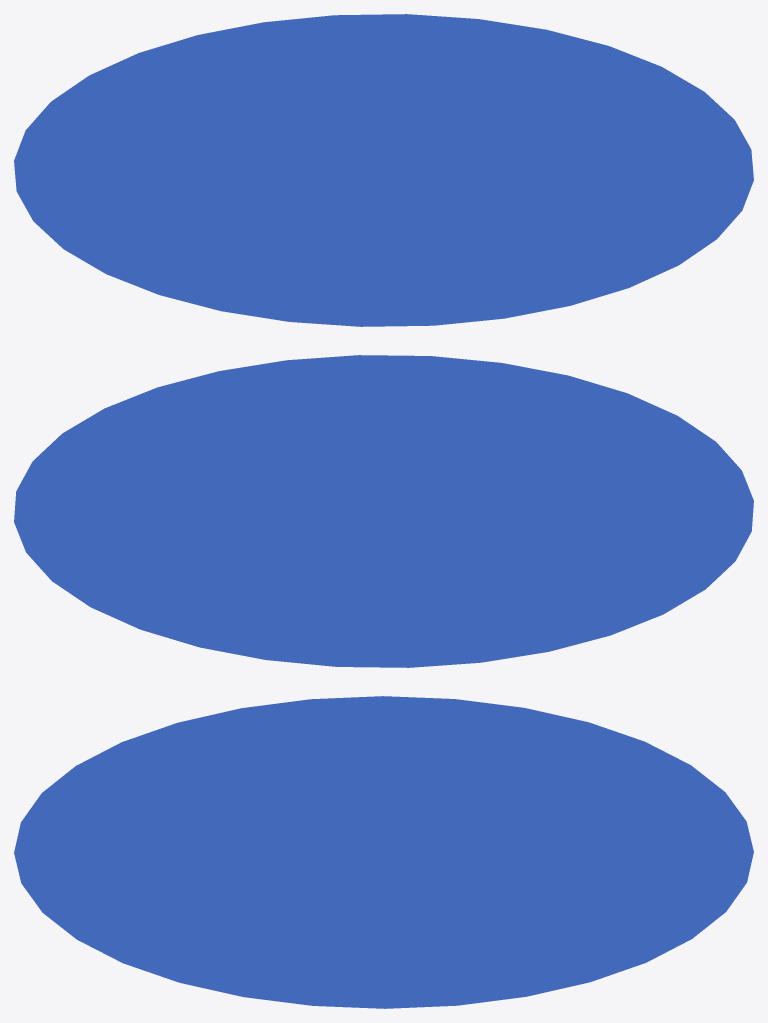
Rendered from Floor_2.fbx.
3 views of the same model, one above another, from view 1: azimuth 30°, elevation 25°; view 2: azimuth 150°, elevation 25°; view 3: azimuth 270°, elevation 25° (orthographic).
Parts seen in each view (by area): view 1: Floor_0_Mesh.001; view 2: Floor_0_Mesh.001; view 3: Floor_0_Mesh.001.
Boxes of the visible parts, box(x1,y1,x2,y2) form: Floor_0_Mesh.001: box(14, 14, 753, 326); Floor_0_Mesh.001: box(14, 355, 753, 667); Floor_0_Mesh.001: box(14, 696, 753, 1008).
Bounding box in the file's own units: 36478 × 0 × 36478.
